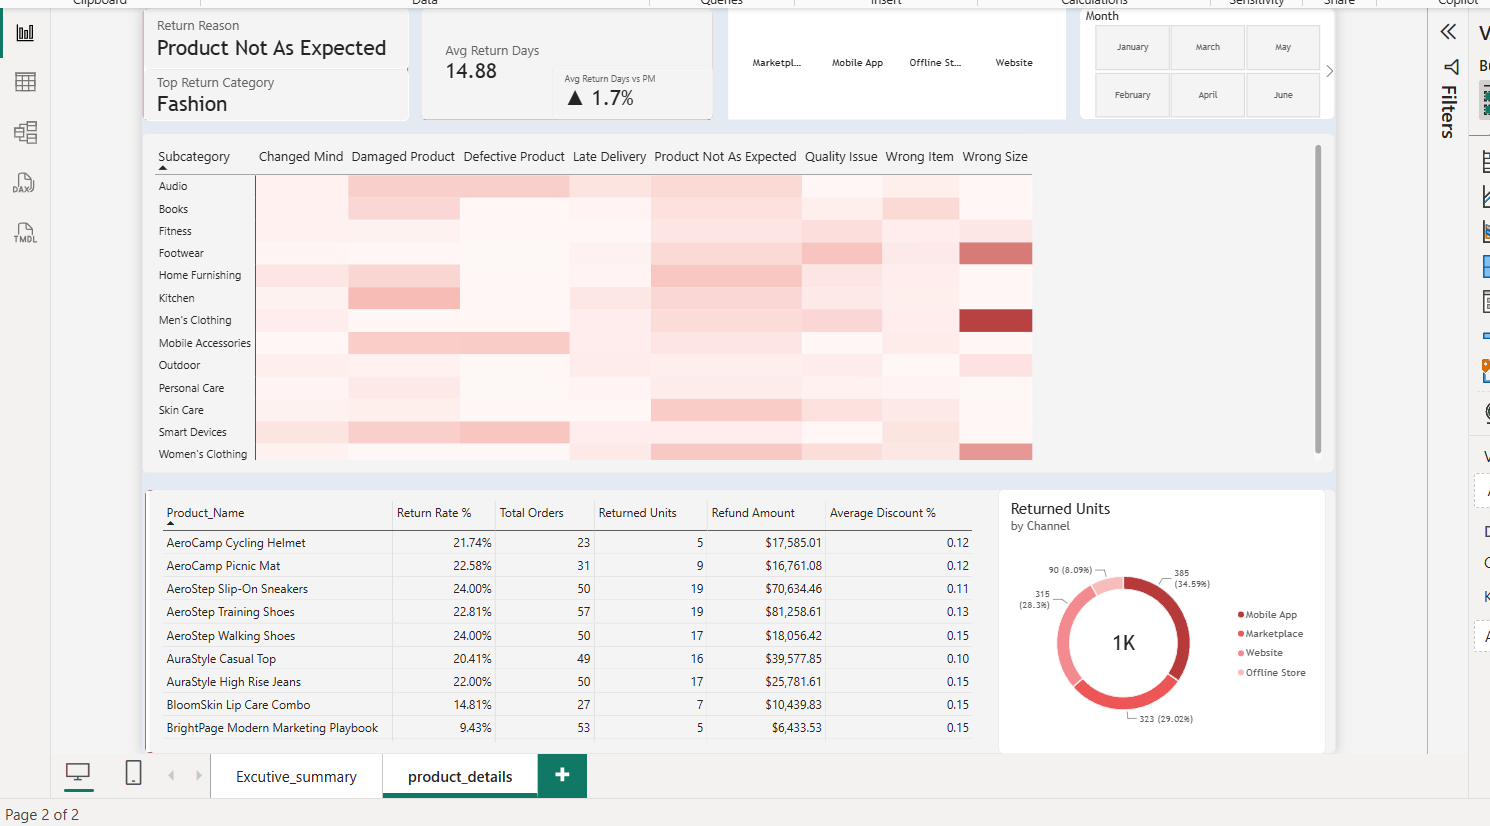

This screenshot's page, from the dashboard's own definition file:
{"tool":"powerbi","page":{"name":"product_details","canvas":[1600,1000],"ordinal":1},"visuals":[{"type":"textbox","box":[10,0,280,280],"z":0},{"type":"shape","box":[0,0,357.9,151.4],"z":1000},{"type":"shape","box":[373.4,1.7,392.3,149.7],"z":2000},{"type":"shape","box":[10.3,166.9,1182.2,357.9],"z":3000},{"type":"shape","box":[3.4,645.3,1524.6,354.5],"z":4000},{"type":"advancedSlicerVisual","fields":{"Values":["Fact_Orders.Sales_Channel"]},"box":[786.4,0,452.6,149.7],"z":5000},{"type":"slicer","fields":{"Values":["Dim_Date.Date.Variation.Date Hierarchy.Month"]},"box":[1257.3,0,342.4,149.7],"z":6000},{"type":"pivotTable","fields":{"Columns":["Dim_Return_Reason.Return_Reason"],"Rows":["Dim_Product.Subcategory"],"Values":["Fact_Orders.Returned Units"]},"box":[0,167.6,1598.5,455.8],"z":7000},{"type":"tableEx","fields":{"Values":["Dim_Product.Product_Name","_KPI Measures.Return Rate %","_KPI Measures.Total Orders","Fact_Orders.Returned Units","_KPI Measures.Refund Amount","Dim_Product.Average Discount %"]},"box":[10.3,645.3,1590,354.5],"z":8000},{"type":"cardVisual","fields":{"Data":["Table 2 page meaures.Avg Return Days"]},"box":[373.9,0,391.1,149.2],"z":9000},{"type":"cardVisual","fields":{"Data":["Table 2 page meaures.Avg Return Days vs PM"]},"box":[548.9,77.2,216.1,72],"z":10000},{"type":"cardVisual","fields":{"Data":["Table 2 page meaures.Top Return Category"]},"box":[3.4,82.1,355.2,70.4],"z":11000},{"type":"cardVisual","fields":{"Data":["Table 2 page meaures.Return Reason"]},"box":[3.4,0,355.2,82.1],"z":12000},{"type":"donutChart","fields":{"Category":["Dim_Channel.Channel"],"Y":["Fact_Orders.Returned Units"]},"box":[1147.8,645.1,439,355.2],"z":13000}]}

Visuals, with their boxes on the page's 1600x1000 design canvas (x1, y1, x2, y2). These are canvas units, not pixel positions in the 1490x826 screenshot, which may show the page scaled, cropped or inside an application window:
textbox: <bbox>10, 0, 290, 280</bbox>
shape: <bbox>0, 0, 358, 151</bbox>
shape: <bbox>373, 2, 766, 151</bbox>
shape: <bbox>10, 167, 1192, 525</bbox>
shape: <bbox>3, 645, 1528, 1000</bbox>
advancedSlicerVisual - Fact_Orders.Sales_Channel: <bbox>786, 0, 1239, 150</bbox>
slicer - Dim_Date.Date.Variation.Date Hierarchy.Month: <bbox>1257, 0, 1600, 150</bbox>
pivotTable - Dim_Return_Reason.Return_Reason x Dim_Product.Subcategory: <bbox>0, 168, 1598, 623</bbox>
tableEx - Dim_Product.Product_Name x _KPI Measures.Return Rate %: <bbox>10, 645, 1600, 1000</bbox>
cardVisual - Table 2 page meaures.Avg Return Days: <bbox>374, 0, 765, 149</bbox>
cardVisual - Table 2 page meaures.Avg Return Days vs PM: <bbox>549, 77, 765, 149</bbox>
cardVisual - Table 2 page meaures.Top Return Category: <bbox>3, 82, 359, 152</bbox>
cardVisual - Table 2 page meaures.Return Reason: <bbox>3, 0, 359, 82</bbox>
donutChart - Dim_Channel.Channel x Fact_Orders.Returned Units: <bbox>1148, 645, 1587, 1000</bbox>
